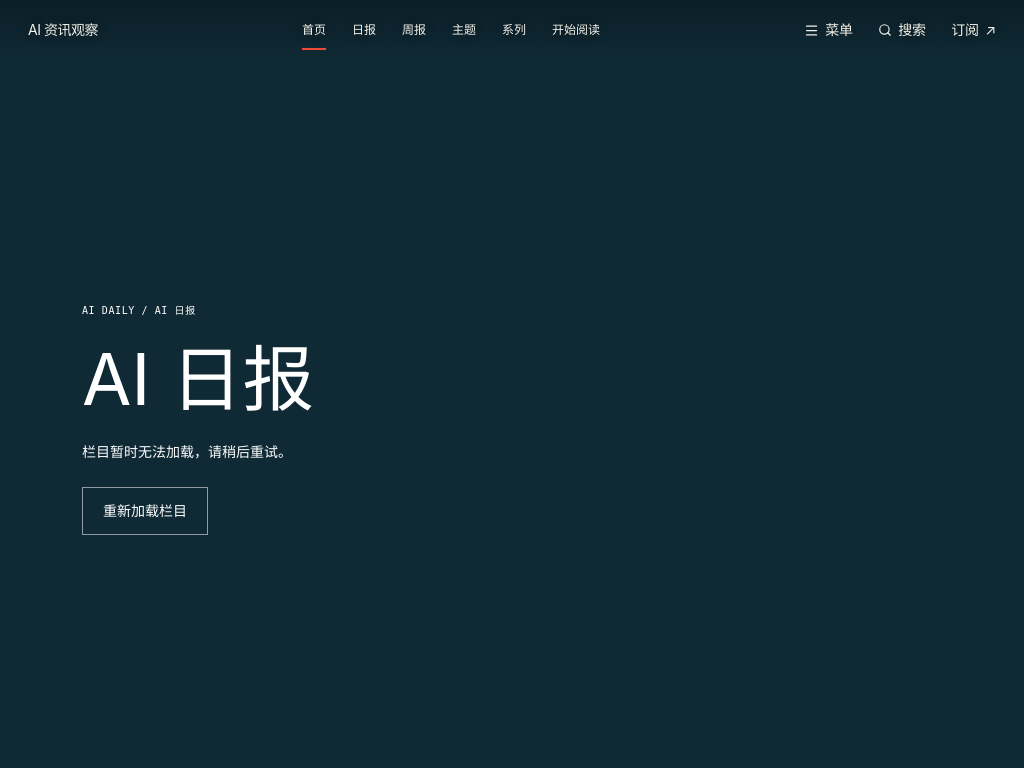
Test: failed loads are not disguised as empty states › ContentTypePage recovers from a failed daily_brief load
This screenshot has width=1024, height=768.
Expected: the message shows "栏目暂时无法加载", x1=82 y1=442 x2=292 y2=460
Step 1. Click the button "重新加载栏目" → (145, 511), box x1=82 y1=487 x2=208 y2=535
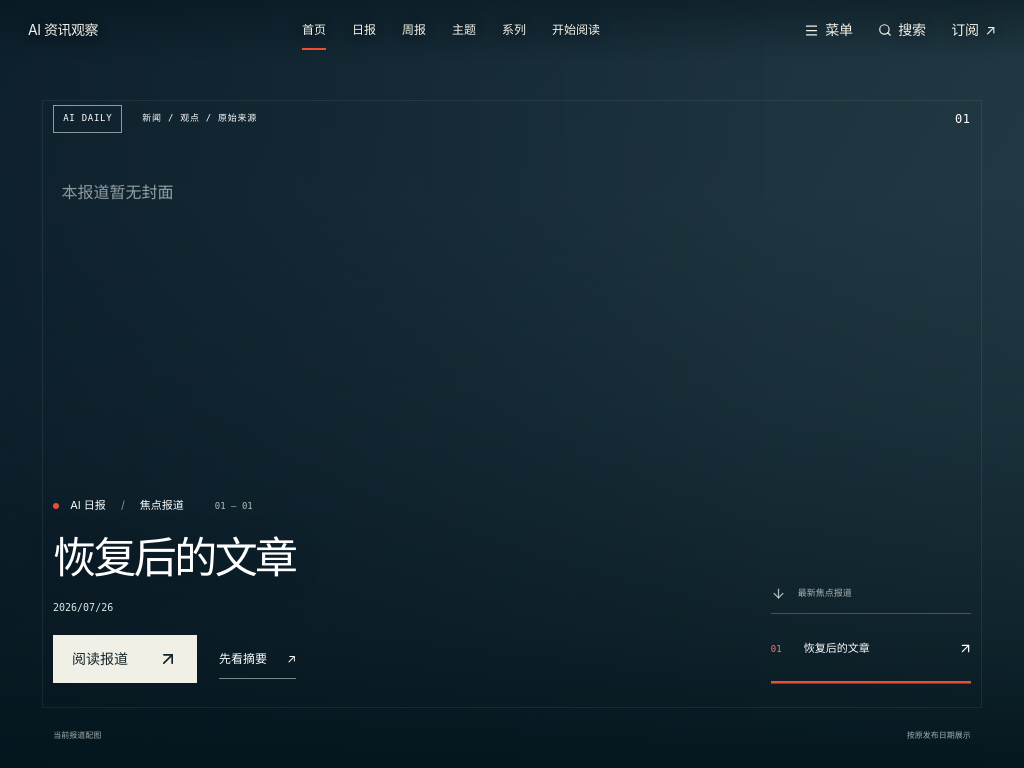
Expected: the heading "恢复后的文章" is shown, x1=53 y1=531 x2=296 y2=583
